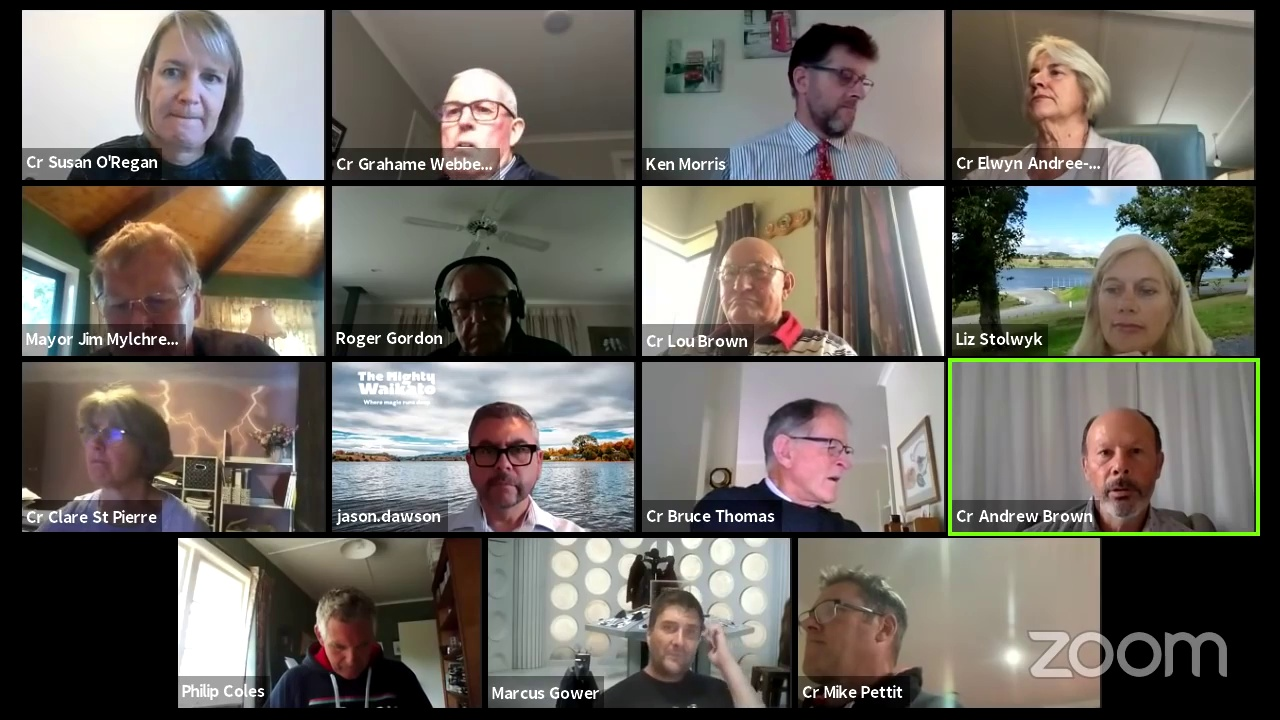Distracted: (772, 25, 886, 143), (806, 569, 922, 684), (757, 389, 858, 514), (63, 380, 174, 488), (1016, 29, 1111, 132), (313, 591, 385, 680)
Not Distracted: (125, 14, 254, 162), (98, 223, 199, 348), (454, 397, 558, 510), (427, 69, 529, 178), (1089, 237, 1183, 351), (1082, 402, 1165, 524), (417, 262, 527, 348), (711, 237, 801, 332), (635, 596, 710, 674)
